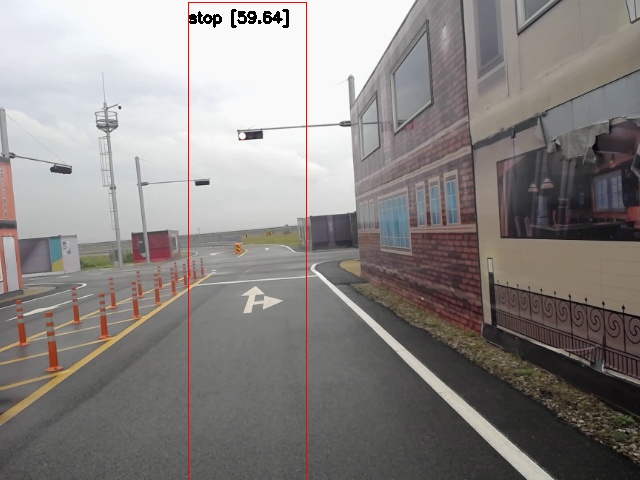red_3: (236, 129, 264, 141)
